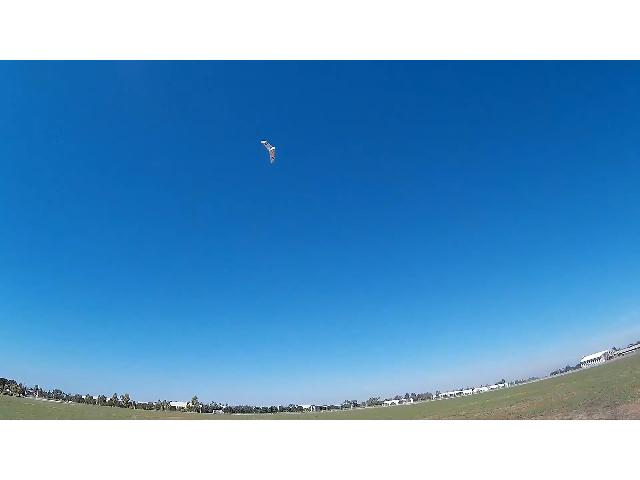Anti-Drone: (262, 140, 276, 164)
